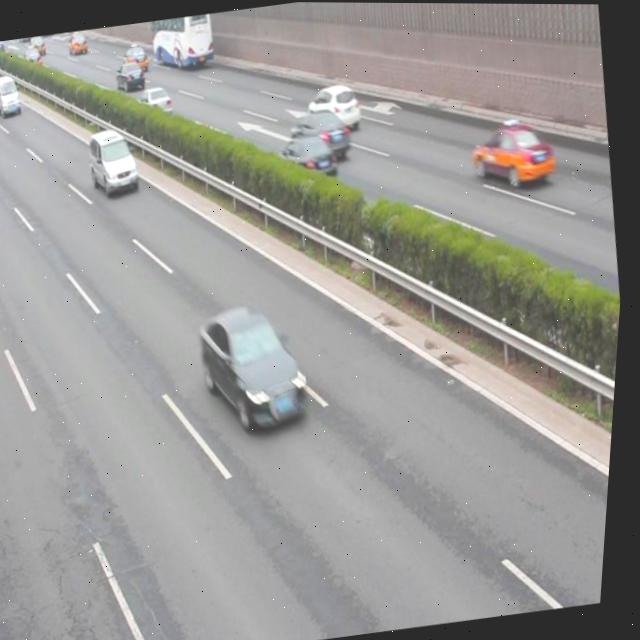car: (195, 297, 320, 440), (468, 111, 560, 192), (288, 104, 355, 163), (275, 129, 342, 187), (305, 79, 365, 134), (137, 83, 176, 119), (114, 58, 147, 92), (119, 40, 151, 75)
truck: (85, 128, 144, 195), (0, 76, 24, 117)
van: (145, 13, 218, 72)
